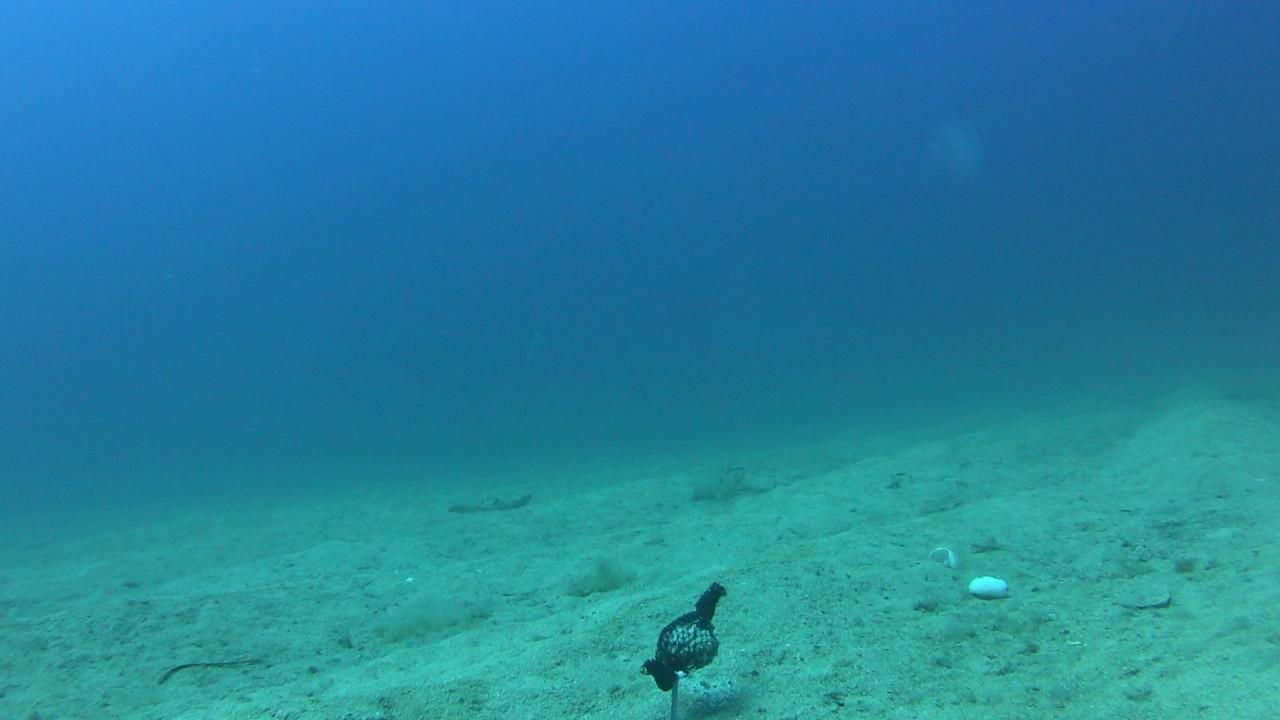myliobatis: (430, 465, 550, 523)
